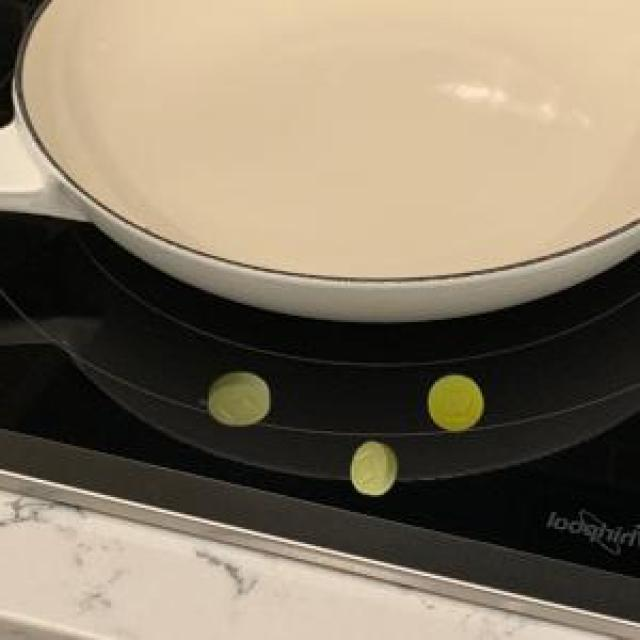Decolgen: (199, 362, 282, 440), (420, 364, 491, 444), (344, 435, 404, 506)
